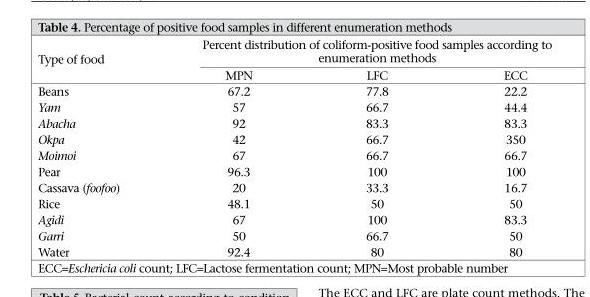table: (37, 36, 551, 258)
table column: (160, 36, 308, 258), (308, 36, 445, 258), (37, 36, 160, 258), (445, 36, 551, 258)
table column header: (37, 36, 551, 82)
table row: (37, 36, 551, 65), (37, 65, 551, 82), (37, 146, 551, 163), (37, 82, 551, 98), (37, 98, 551, 114), (37, 114, 551, 130), (37, 130, 551, 146), (37, 163, 551, 179), (37, 179, 551, 195), (37, 195, 551, 211), (37, 211, 551, 227), (37, 227, 551, 243), (37, 243, 551, 258)
table spanning cell: (160, 36, 551, 65), (37, 36, 160, 82)
